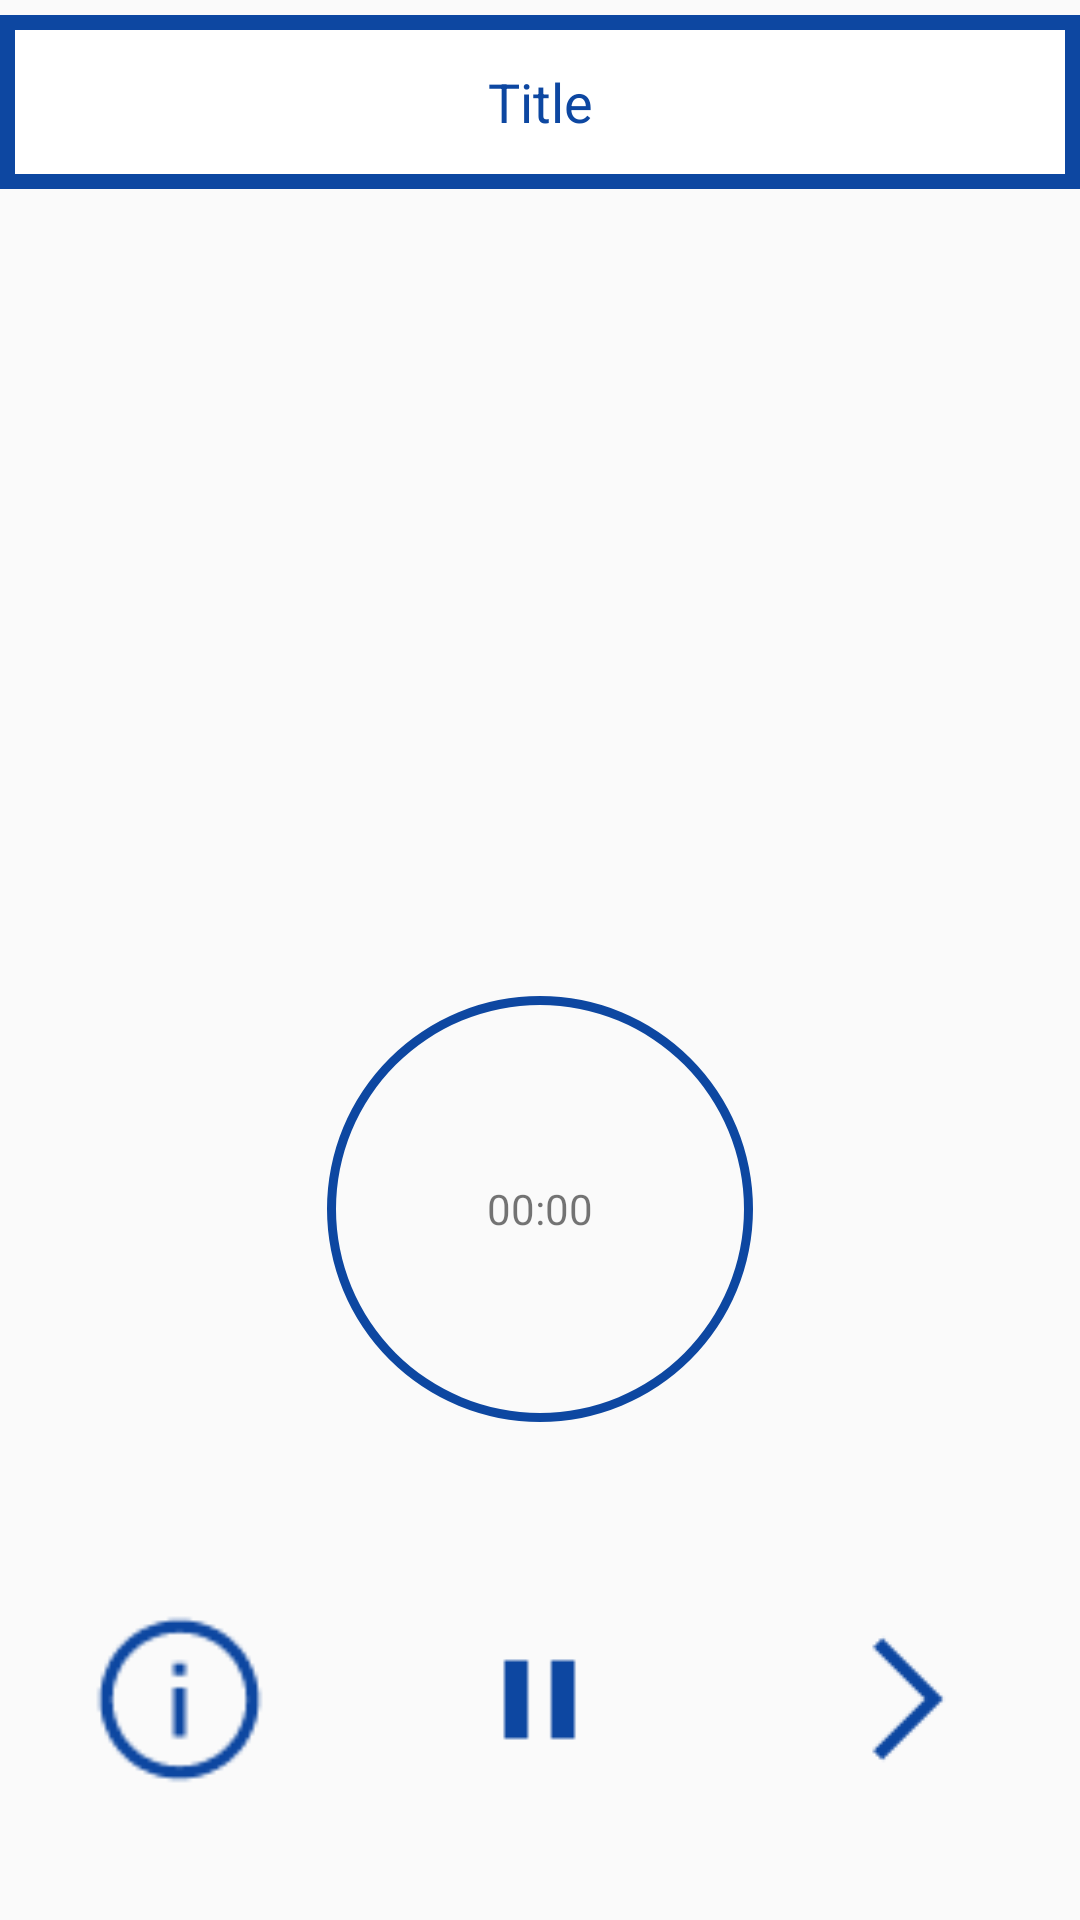

Named icons in this screenshot (1080w x 1920h) and their bounding boxes, (x1, y1, x2, y2):
infop: (97, 1617, 262, 1782)
nextp: (872, 1638, 943, 1760)
pausep: (503, 1659, 576, 1740)
